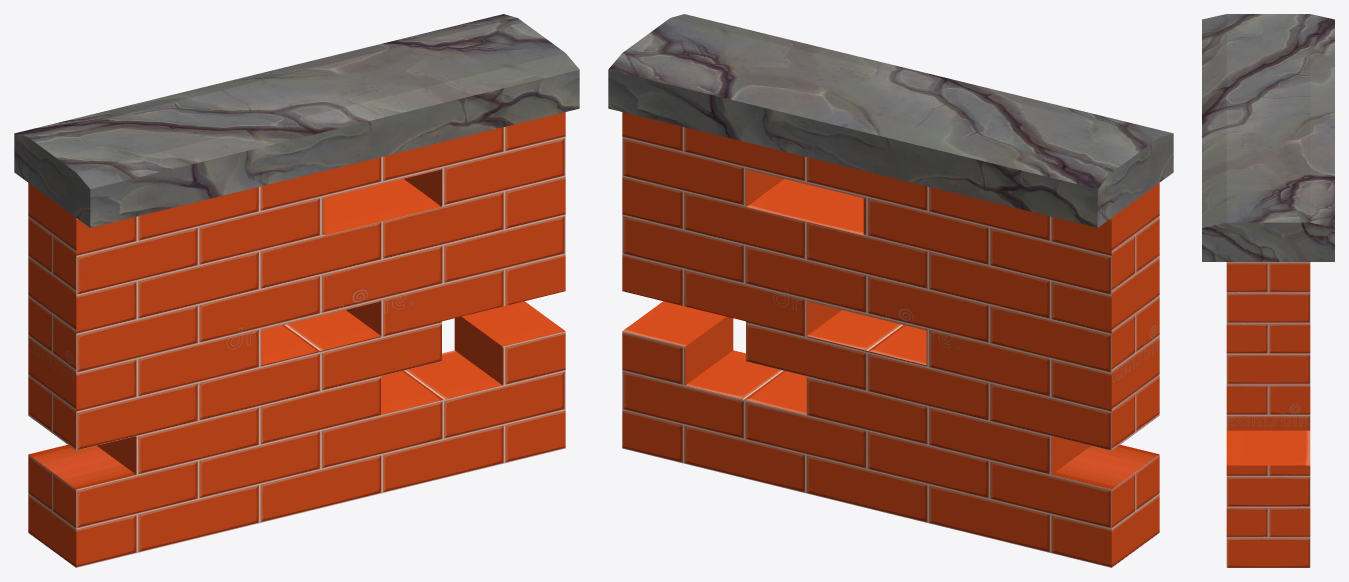
The model's file is Broken_wall.fbx.
The picture shows the model from 3 angles, left to right: view 1: azimuth 30°, elevation 25°; view 2: azimuth 150°, elevation 25°; view 3: azimuth 270°, elevation 25°; orthographic projection. The views are drawn at different scales.
Visible parts, largest first — view 1: Mur cassé; view 2: Mur cassé; view 3: Mur cassé.
Boxes of the visible parts, x1,y1,x2,y2 form: Mur cassé: [14, 14, 579, 567]; Mur cassé: [608, 14, 1173, 567]; Mur cassé: [1202, 14, 1334, 567].
Size of the model in its own units: 100 by 77.43 by 27.01.
Materials: 2 (2 with a texture image).
